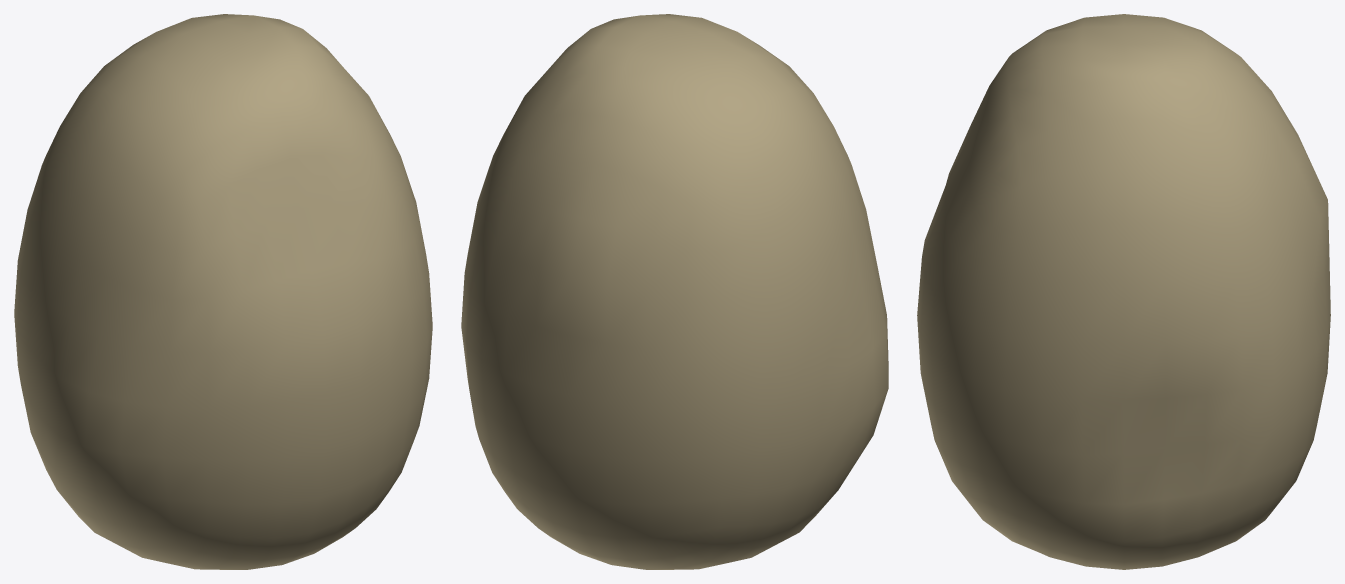
Rendered from Egg.fbx.
3 renders of one model, left to right at view 1: azimuth 30°, elevation 25°; view 2: azimuth 150°, elevation 25°; view 3: azimuth 270°, elevation 25°, orthographic.
Parts seen in each view (by area): view 1: pCube1; view 2: pCube1; view 3: pCube1.
Boxes of the visible parts, box(x1,y1,x2,y2) form: pCube1: box(14, 14, 432, 569); pCube1: box(461, 14, 888, 569); pCube1: box(917, 14, 1330, 569).
Size of the model in its own units: 0.3619 by 0.4856 by 0.358.
